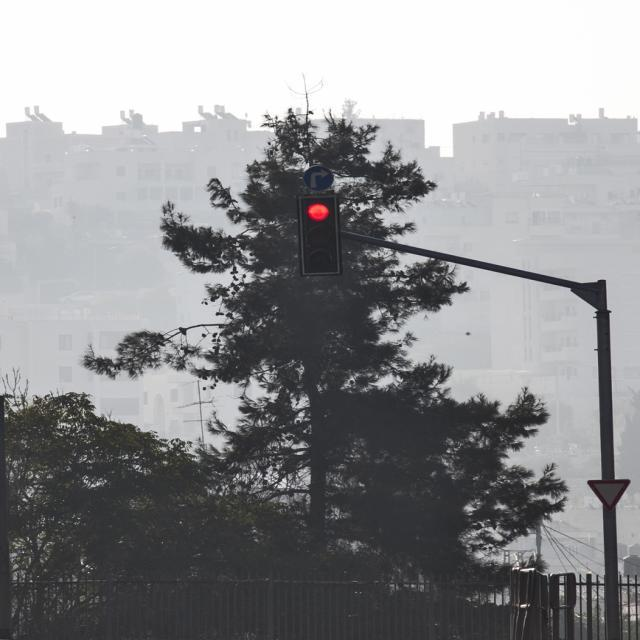traffic light: (299, 195, 343, 280)
